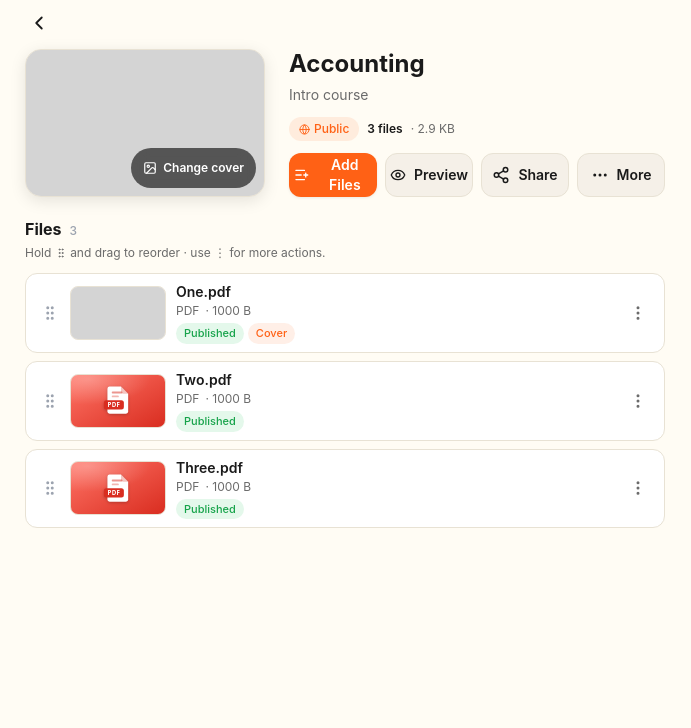
Scenario: Creator playlist page — Add Files (existing channel Library workflow) › shows an error and keeps the selection when adding fails
The width and height of the screenshot is (691, 728).
Step 1. Click the button with test id "action-add-files" → click(333, 175), box [289,153,377,197]
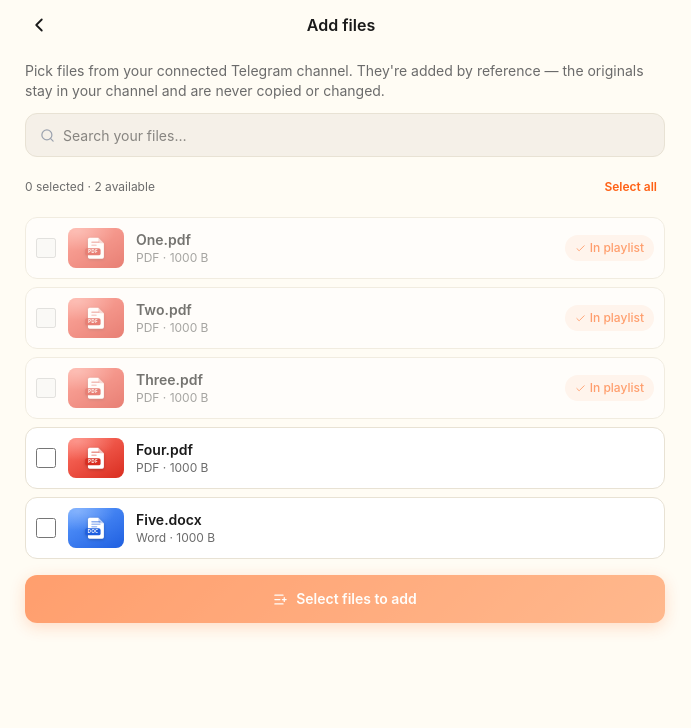
Step 2. Click the checkbox labelled "PDF Four.pdf PDF · 1000 B" → click(46, 458), box [36,448,56,468]
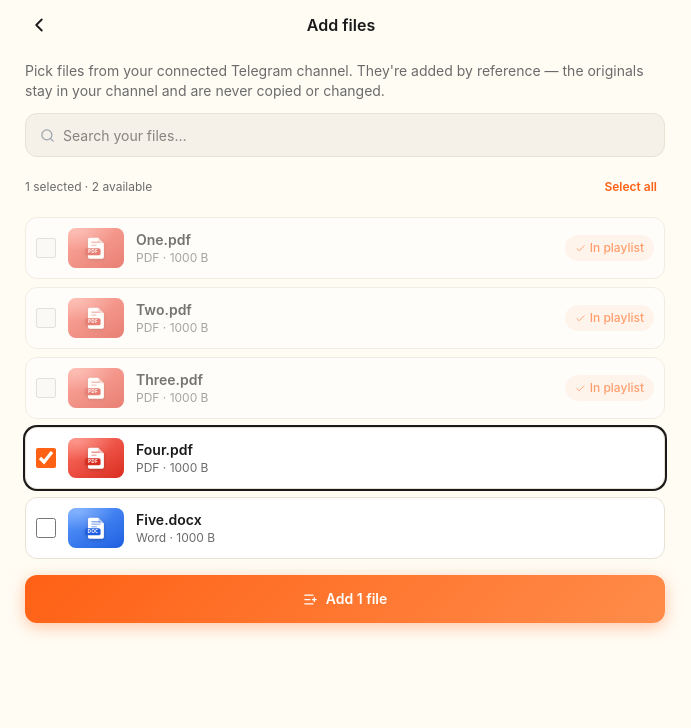
Step 3. Click the button with test id "add-files-submit" → click(345, 599), box [25,575,665,623]
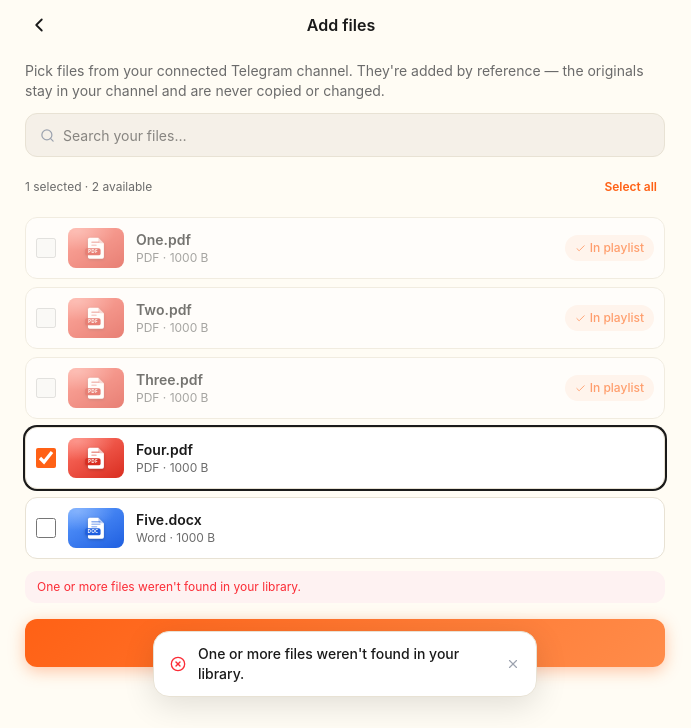
Check: the element with test id "add-files" is shown
Check: the message "One or more files weren't found in your library." is shown, box [25,571,665,603]
